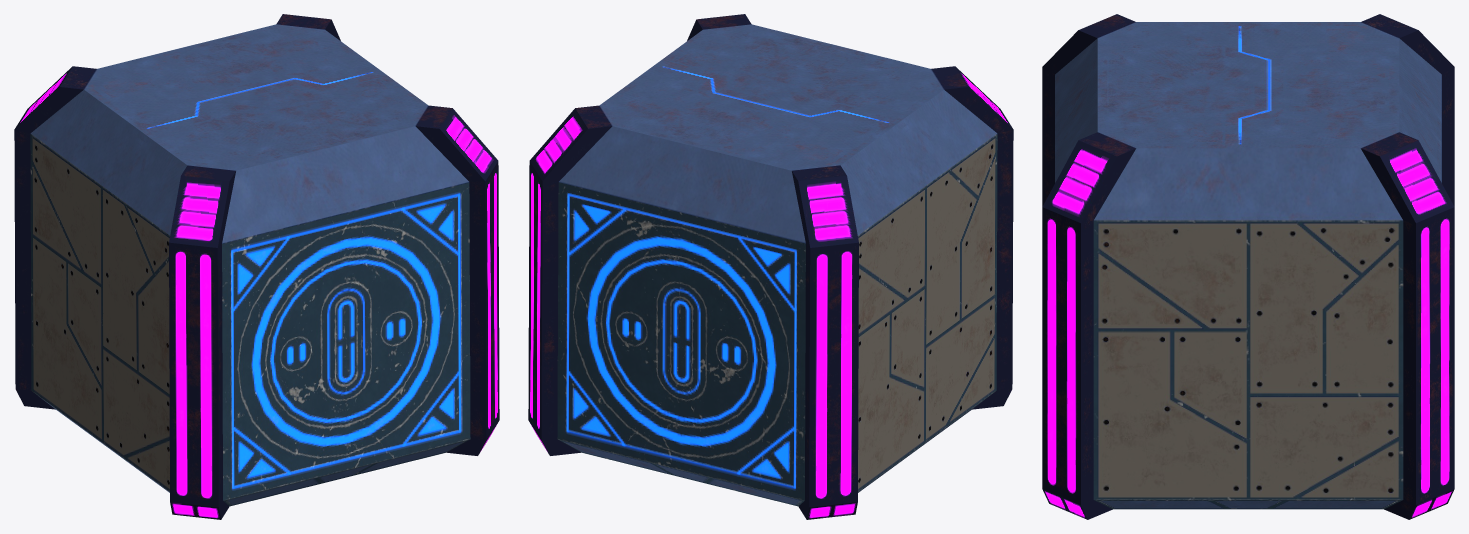
3 renders of one model, left to right at view 1: azimuth 30°, elevation 25°; view 2: azimuth 150°, elevation 25°; view 3: azimuth 270°, elevation 25°, orthographic. The views are drawn at different scales.
Visible parts, largest first — view 1: LowPolyCrate; view 2: LowPolyCrate; view 3: LowPolyCrate.
Part boxes in pixels (left/top/right/bottom): LowPolyCrate: left=14, top=14, right=499, bottom=519; LowPolyCrate: left=528, top=14, right=1013, bottom=519; LowPolyCrate: left=1042, top=14, right=1454, bottom=519.
Size of the model in its own units: 21378 by 20077 by 21309.
1 material, 1 textured.
